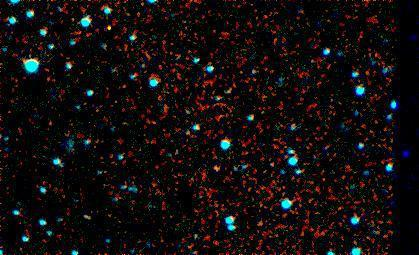star: (90, 10, 120, 40)
